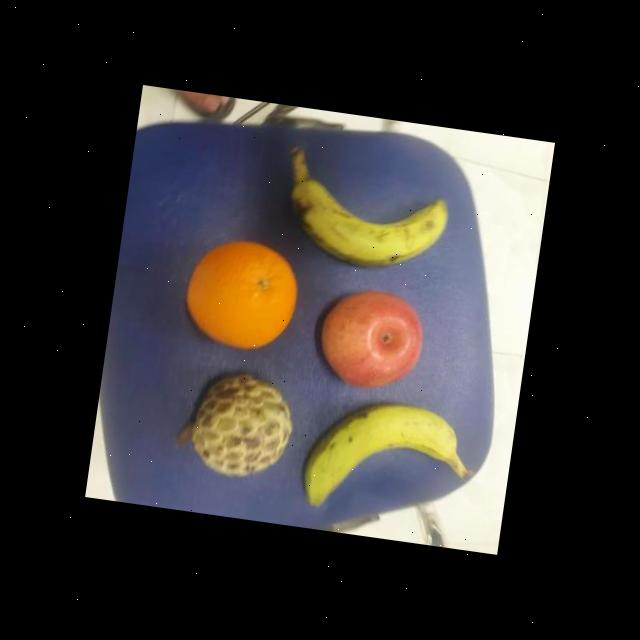Sakya fruit: (183, 367, 300, 486)
apple: (310, 282, 430, 399)
banana: (298, 388, 475, 526), (280, 169, 456, 282)
orange: (178, 234, 306, 356)
